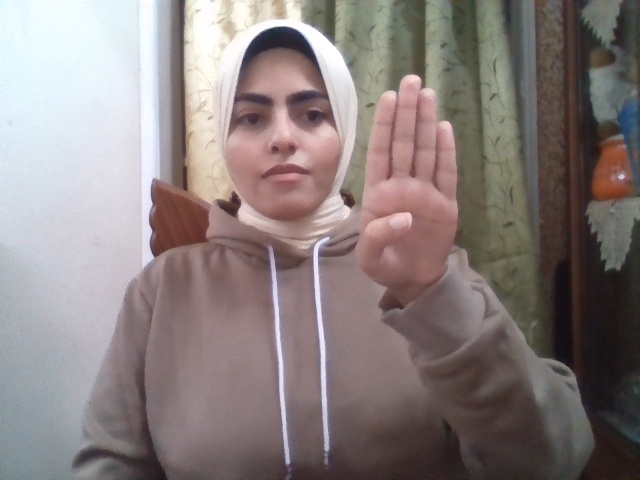B: (356, 75, 459, 288)
